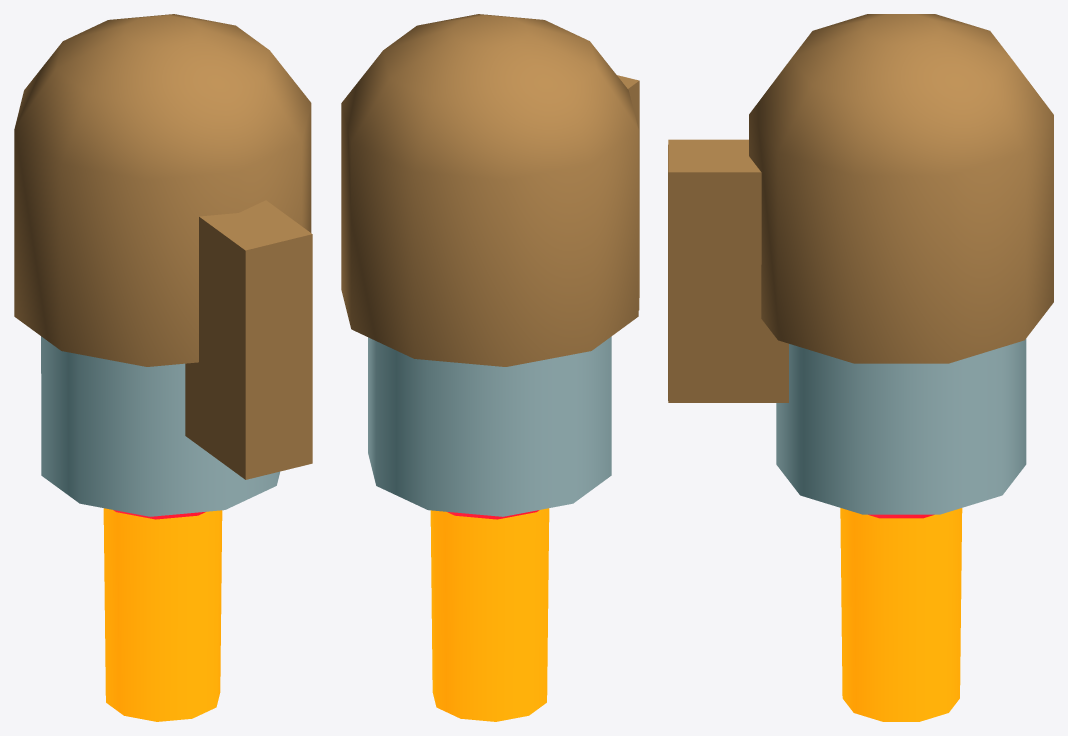
Rendered from directional.glb.
3 views of the same model, side by side, from view 1: azimuth 30°, elevation 25°; view 2: azimuth 150°, elevation 25°; view 3: azimuth 270°, elevation 25° (orthographic).
Visible parts, largest first — view 1: Cylinder.025, boost-part.002; view 2: Cylinder.025, boost-part.002; view 3: Cylinder.025, boost-part.002.
Part boxes in pixels (x1,y1,x2,y2): Cylinder.025: (14,14,312,519); boost-part.002: (103,508,222,721); Cylinder.025: (341,14,639,519); boost-part.002: (430,508,549,721); Cylinder.025: (668,14,1053,518); boost-part.002: (840,508,962,721).
Size of the model in its own units: 0.1072 by 0.2726 by 0.1426.
